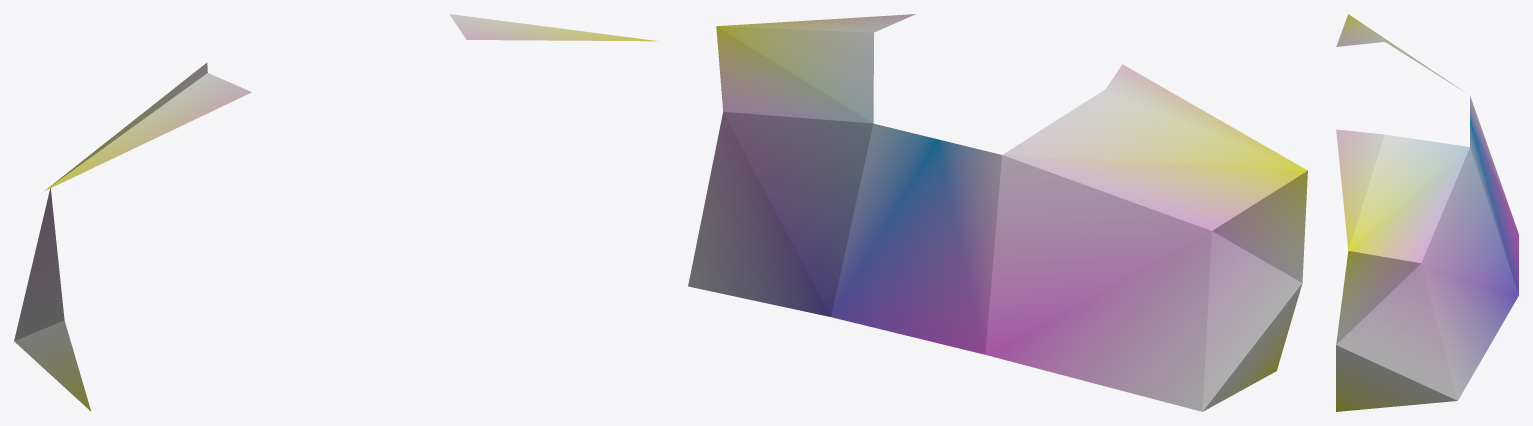
3 renders of one model, left to right at view 1: azimuth 30°, elevation 25°; view 2: azimuth 150°, elevation 25°; view 3: azimuth 270°, elevation 25°, orthographic. The views are drawn at different scales.
Parts seen in each view (by area): view 1: model_1120; view 2: model_1120; view 3: model_1120.
Boxes of the visible parts, left/top/right/bottom form: model_1120: left=14, top=14, right=658, bottom=411; model_1120: left=688, top=14, right=1307, bottom=411; model_1120: left=1336, top=14, right=1518, bottom=411.
Size of the model in its own units: 46 by 20 by 15.
